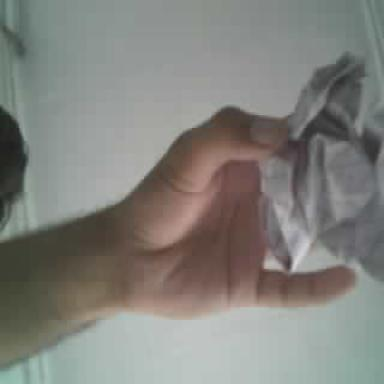paper: (260, 54, 383, 280)
